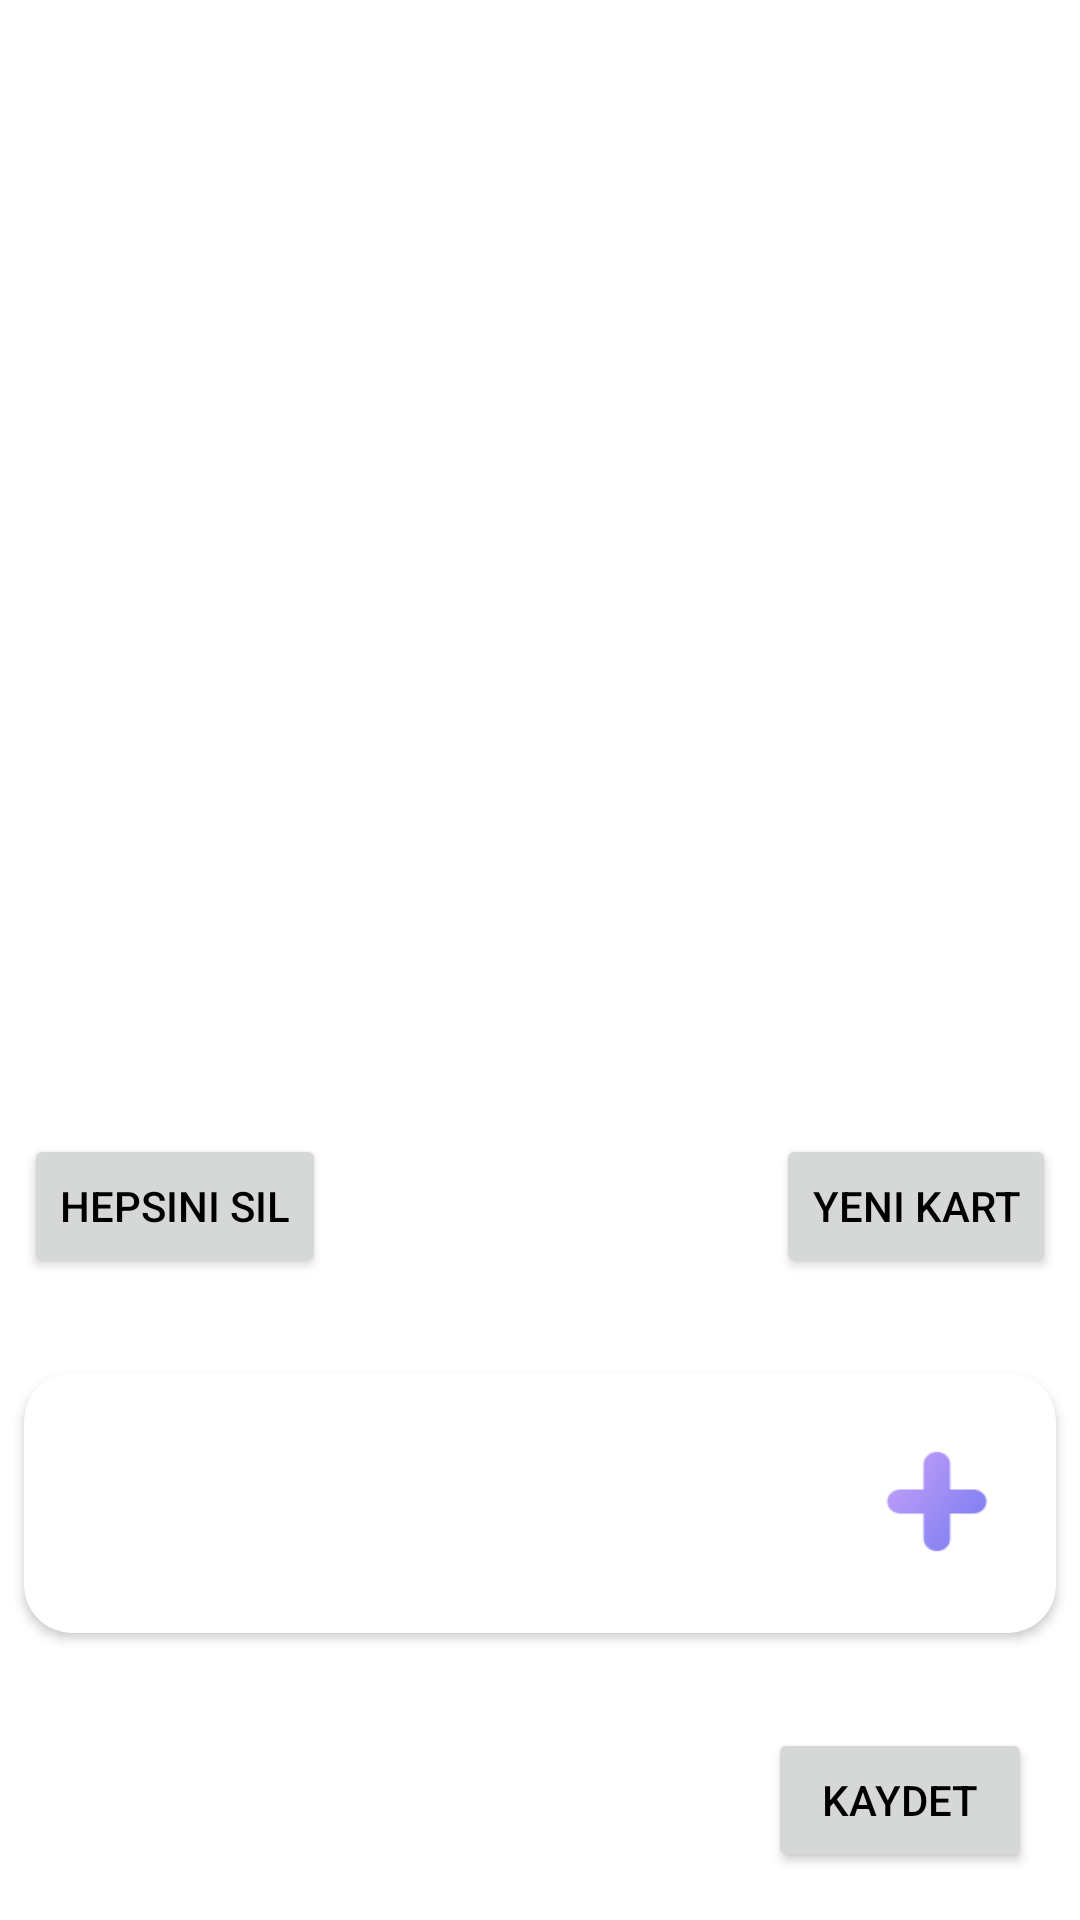

Named icons in this screenshot (1080×1920) and their bounding boxes, (x1, y1, x2, y2):
add: (887, 1452, 987, 1551)
